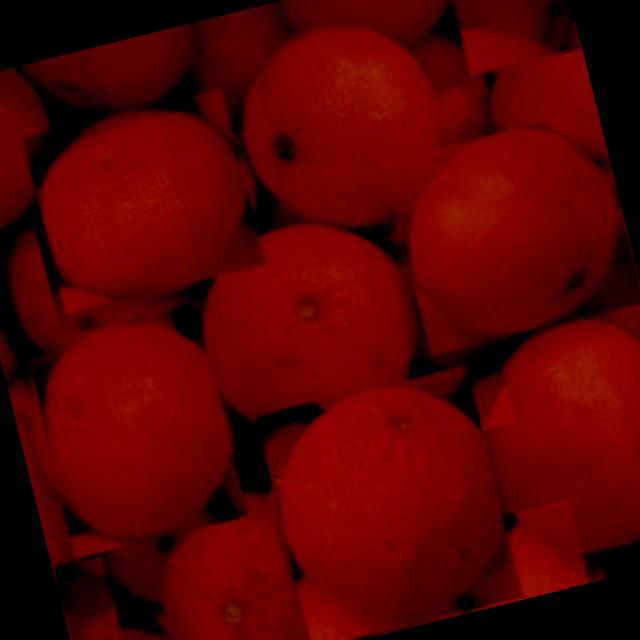Orange: (254, 364, 523, 640), (382, 107, 640, 355), (178, 200, 438, 432), (22, 302, 248, 558), (226, 5, 458, 252), (22, 88, 266, 313), (460, 301, 640, 579), (156, 476, 360, 640), (37, 22, 205, 117), (0, 59, 82, 240), (294, 0, 476, 74), (441, 0, 581, 75)
